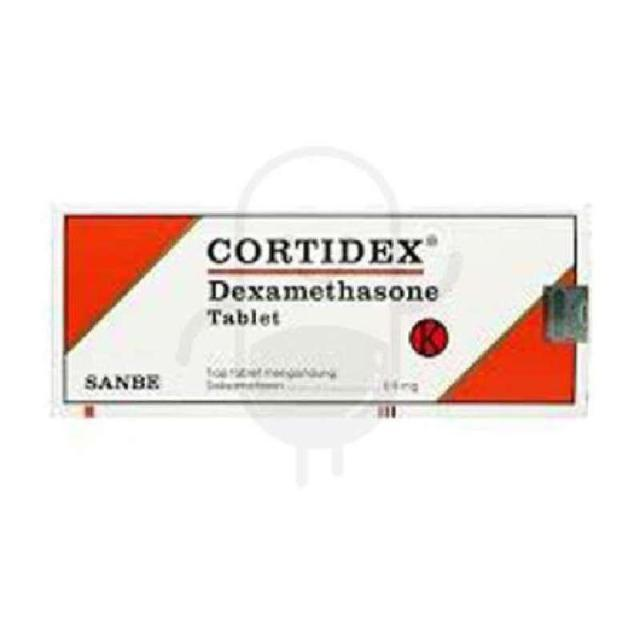drug-name: (205, 233, 440, 264)
